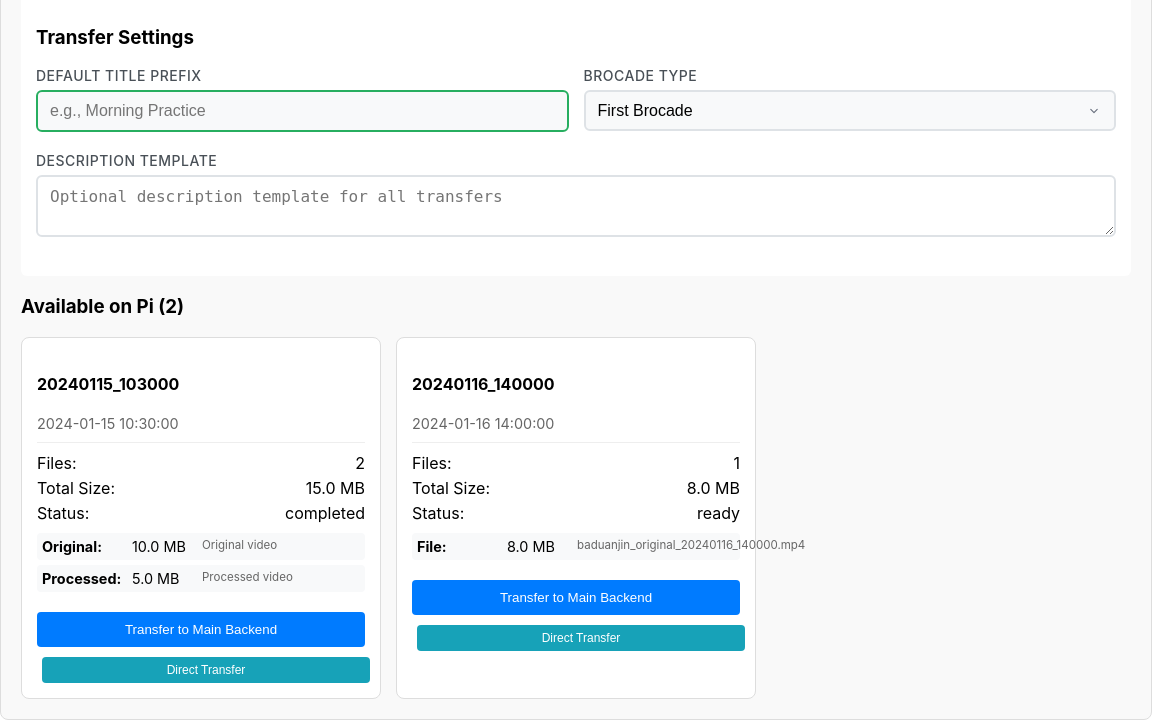
PiVideoTransfer Component › Error Handling › handles transfer failure gracefully
(page scrolled)
Click the button "Transfer to Main Backend" below "Processed video".
click(201, 630)  # box top-left (37, 612), bottom-right (365, 647)
(page scrolled)
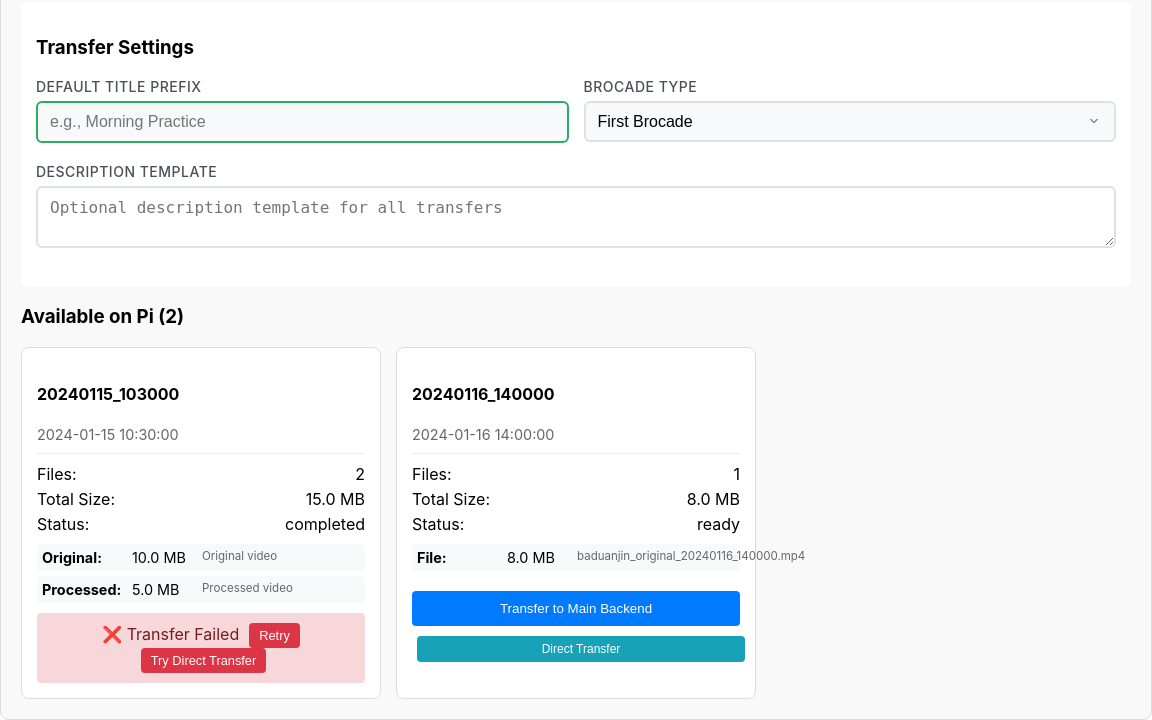
Expected: the text "❌ Transfer Failed" is shown, top-left (102, 624), bottom-right (239, 644)
Expected: the button "Retry" is shown, top-left (249, 623), bottom-right (300, 648)
